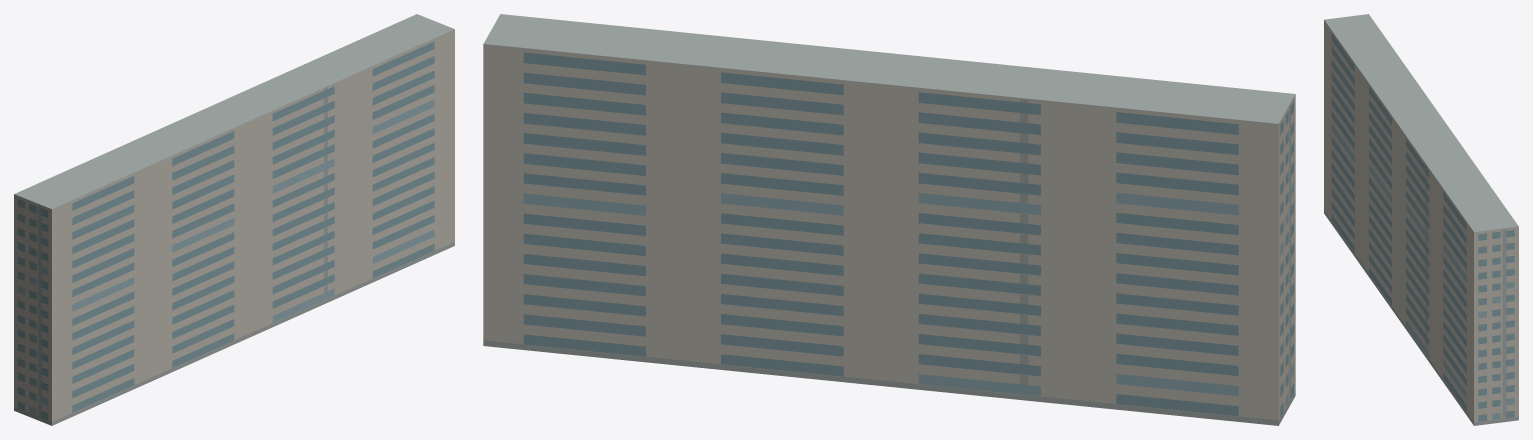
Rendered from residential-f8f5a218-1855-4f8e-af14-a537762824e0.glb.
The picture shows the model from 3 angles, left to right: view 1: azimuth 30°, elevation 25°; view 2: azimuth 150°, elevation 25°; view 3: azimuth 270°, elevation 25°; orthographic projection. The views are drawn at different scales.
Visible parts, largest first — view 1: residential-f8f5a218-1855-4f8e-af14-a537762824e0.tmp; view 2: residential-f8f5a218-1855-4f8e-af14-a537762824e0.tmp; view 3: residential-f8f5a218-1855-4f8e-af14-a537762824e0.tmp.
Boxes of the visible parts, x1=… form: residential-f8f5a218-1855-4f8e-af14-a537762824e0.tmp: x1=14, y1=14, x2=454, y2=425; residential-f8f5a218-1855-4f8e-af14-a537762824e0.tmp: x1=483, y1=14, x2=1295, y2=425; residential-f8f5a218-1855-4f8e-af14-a537762824e0.tmp: x1=1324, y1=14, x2=1518, y2=425.
Size of the model in its own units: 110 by 45.75 by 41.66.
